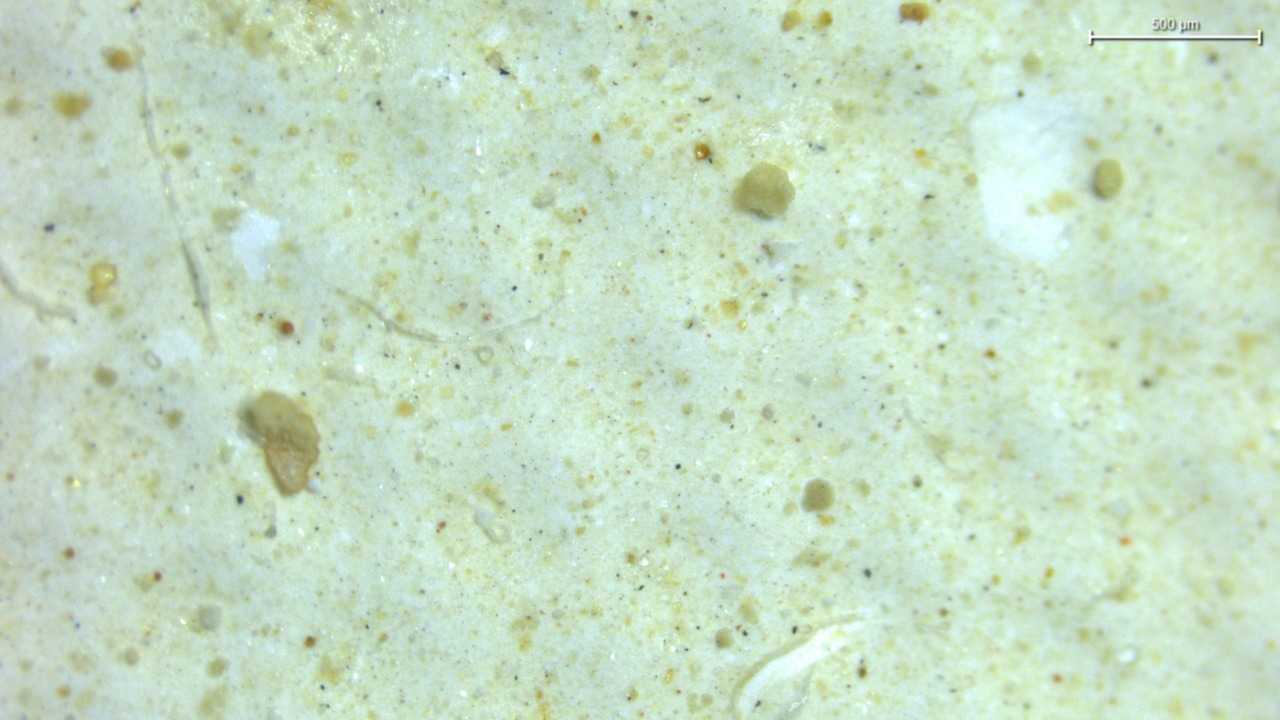microplastic_fragment: (242, 392, 319, 494), (733, 162, 795, 217)
